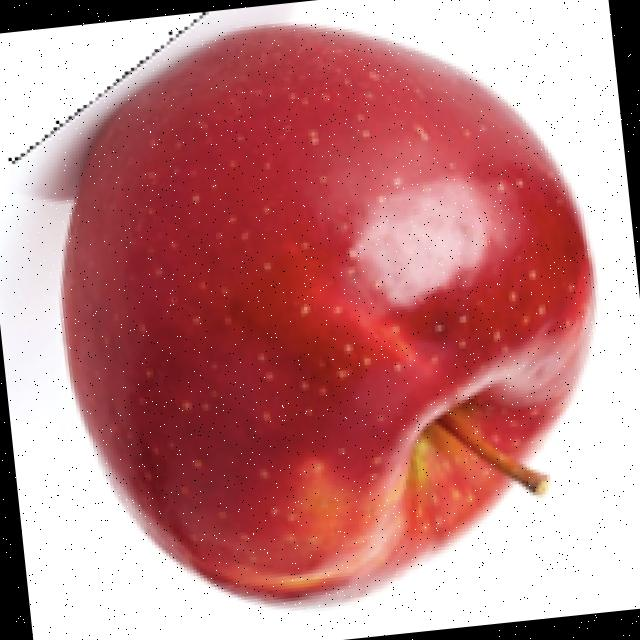apple: (0, 4, 601, 615)
